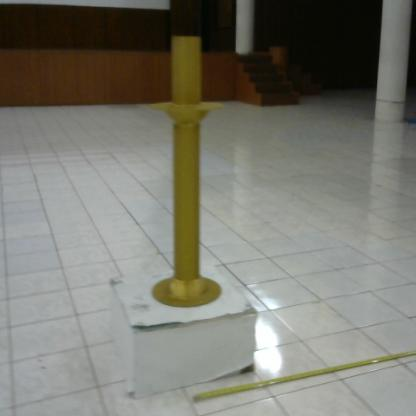pole: (142, 31, 234, 313)
